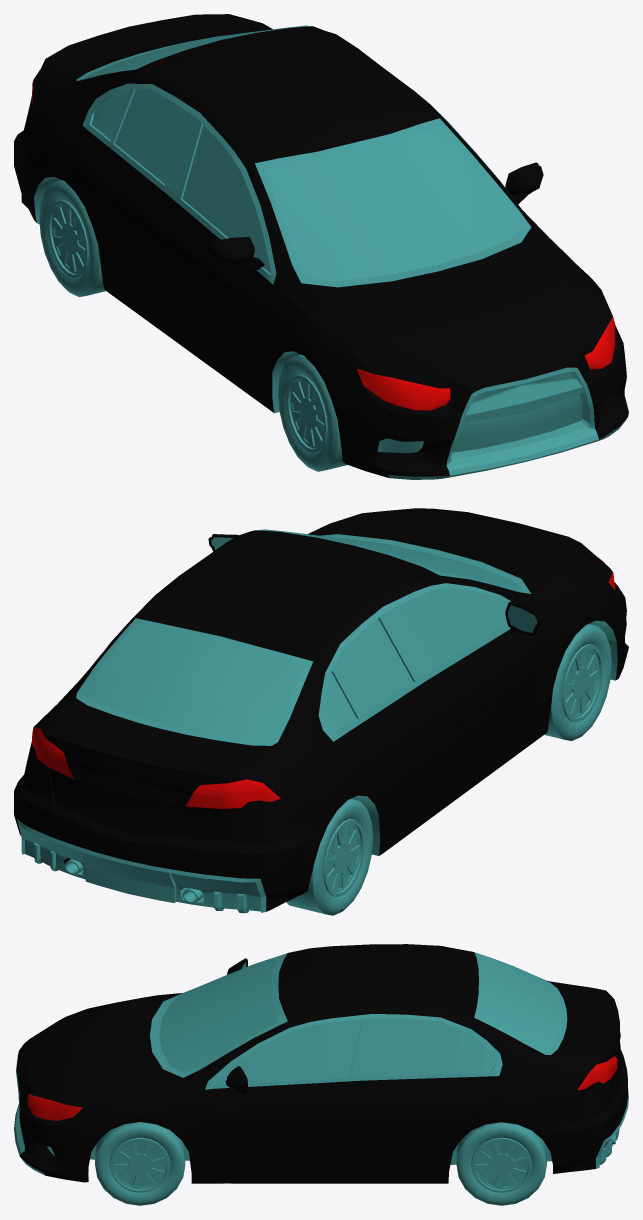
Rendered from lance.fbx.
The picture shows the model from 3 angles, top to bottom: view 1: azimuth 30°, elevation 25°; view 2: azimuth 150°, elevation 25°; view 3: azimuth 270°, elevation 25°; orthographic projection. The views are drawn at different scales.
Parts seen in each view (by area): view 1: group1_pCylinder7z, pCylinder5z, pCylinder6z; view 2: group1_pCylinder7z, pCylinder6z, pCylinder5z; view 3: group1_pCylinder7z, pCylinder1z, pCylinder2z.
Boxes of the visible parts, left/top/right/bottom form: group1_pCylinder7z: left=14, top=14, right=628, bottom=479; pCylinder5z: left=278, top=354, right=347, bottom=471; pCylinder6z: left=39, top=180, right=105, bottom=296; group1_pCylinder7z: left=14, top=508, right=628, bottom=913; pCylinder6z: left=286, top=799, right=373, bottom=915; pCylinder5z: left=544, top=624, right=611, bottom=740; group1_pCylinder7z: left=14, top=944, right=628, bottom=1183; pCylinder1z: left=95, top=1122, right=185, bottom=1205; pCylinder2z: left=456, top=1122, right=546, bottom=1205.
Bounding box in the file's own units: 19.41 × 13.53 × 41.14.
